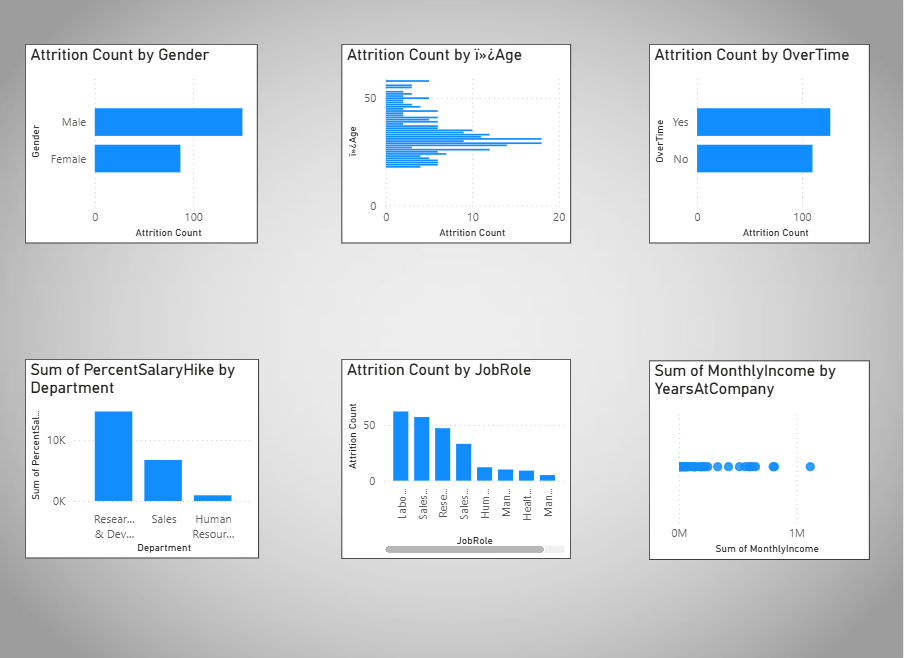

Layout of this report page (visuals, bound fields, positions):
{"tool":"powerbi","page":{"name":"Page 2","canvas":[960,720],"ordinal":1},"visuals":[{"type":"barChart","fields":{"Category":["hr_analytics hr_employee_attrition.Gender"],"Y":["hr_analytics hr_employee_attrition.Attrition Count"]},"box":[28.6,54.1,246.5,211.6],"z":0},{"type":"barChart","fields":{"Category":["hr_analytics hr_employee_attrition.ï»¿Age"],"Y":["hr_analytics hr_employee_attrition.Attrition Count"]},"box":[364.2,54.1,243.4,211.6],"z":1000},{"type":"barChart","fields":{"Y":["hr_analytics hr_employee_attrition.Attrition Count"],"Category":["hr_analytics hr_employee_attrition.OverTime"]},"box":[690.3,54.1,233.8,211.6],"z":2000},{"type":"columnChart","fields":{"Y":["Sum(hr_analytics hr_employee_attrition.PercentSalaryHike)"],"Category":["hr_analytics hr_employee_attrition.Department"]},"box":[28.6,388.1,248.1,211.6],"z":3000},{"type":"columnChart","fields":{"Category":["hr_analytics hr_employee_attrition.JobRole"],"Y":["hr_analytics hr_employee_attrition.Attrition Count"]},"box":[364,388,243,212],"z":4000},{"type":"scatterChart","fields":{"Category":["hr_analytics hr_employee_attrition.YearsAtCompany"],"X":["Sum(hr_analytics hr_employee_attrition.MonthlyIncome)"]},"box":[690.3,389.7,233.8,211.6],"z":5000}]}

Visuals, with their boxes in screenshot pixels (x1, y1, x2, y2):
barChart - hr_analytics hr_employee_attrition.Gender x hr_analytics hr_employee_attrition.Attrition Count: box(27, 44, 258, 242)
barChart - hr_analytics hr_employee_attrition.ï»¿Age x hr_analytics hr_employee_attrition.Attrition Count: box(341, 44, 569, 242)
barChart - hr_analytics hr_employee_attrition.Attrition Count x hr_analytics hr_employee_attrition.OverTime: box(646, 44, 865, 242)
columnChart - Sum(hr_analytics hr_employee_attrition.PercentSalaryHike) x hr_analytics hr_employee_attrition.Department: box(27, 356, 259, 554)
columnChart - hr_analytics hr_employee_attrition.JobRole x hr_analytics hr_employee_attrition.Attrition Count: box(341, 356, 568, 555)
scatterChart - hr_analytics hr_employee_attrition.YearsAtCompany x Sum(hr_analytics hr_employee_attrition.MonthlyIncome): box(646, 358, 865, 556)
